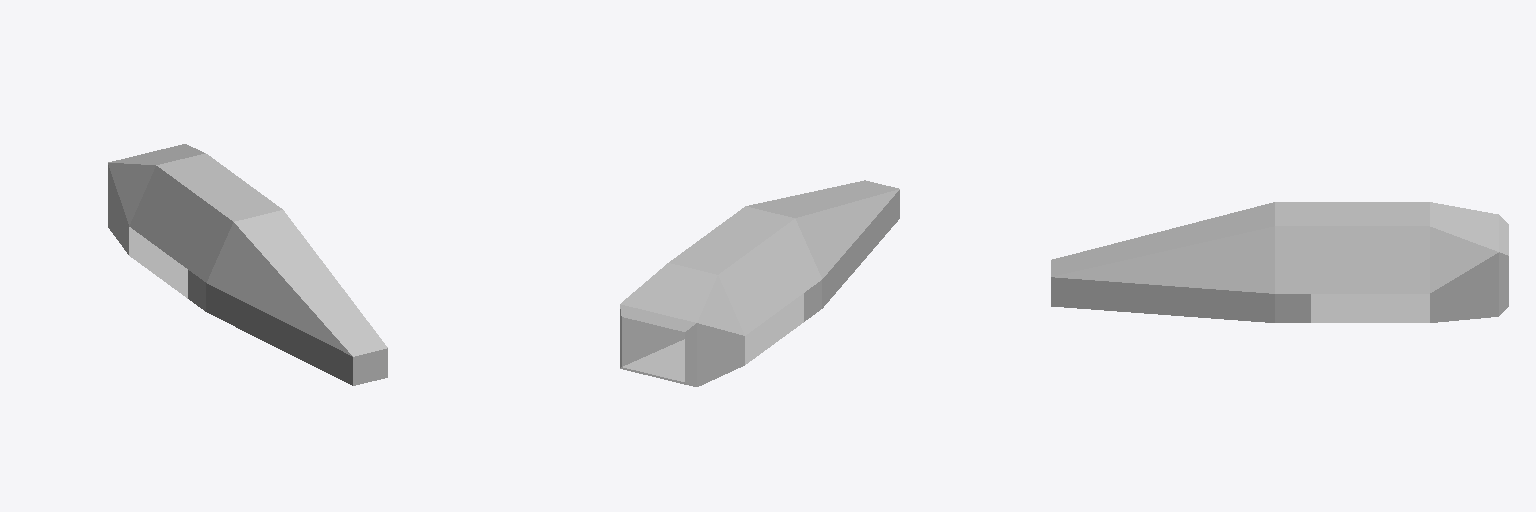
Rendered from ship_body.obj.
3 renders of one model, left to right at view 1: azimuth 30°, elevation 25°; view 2: azimuth 150°, elevation 25°; view 3: azimuth 270°, elevation 25°, orthographic.
Visible parts, largest first — view 1: Cube; view 2: Cube; view 3: Cube.
Boxes of the visible parts, x1=… form: Cube: x1=108, y1=144, x2=387, y2=385; Cube: x1=620, y1=180, x2=899, y2=386; Cube: x1=1051, y1=202, x2=1508, y2=322.
Size of the model in its own units: 0.2015 by 0.1554 by 0.7707.